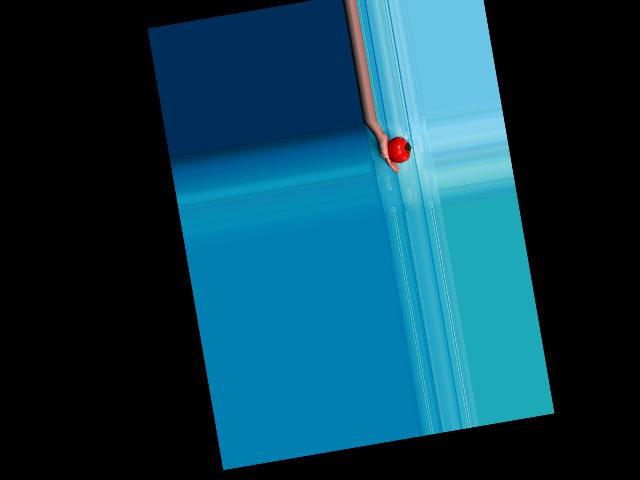tomato: (385, 135, 412, 165)
